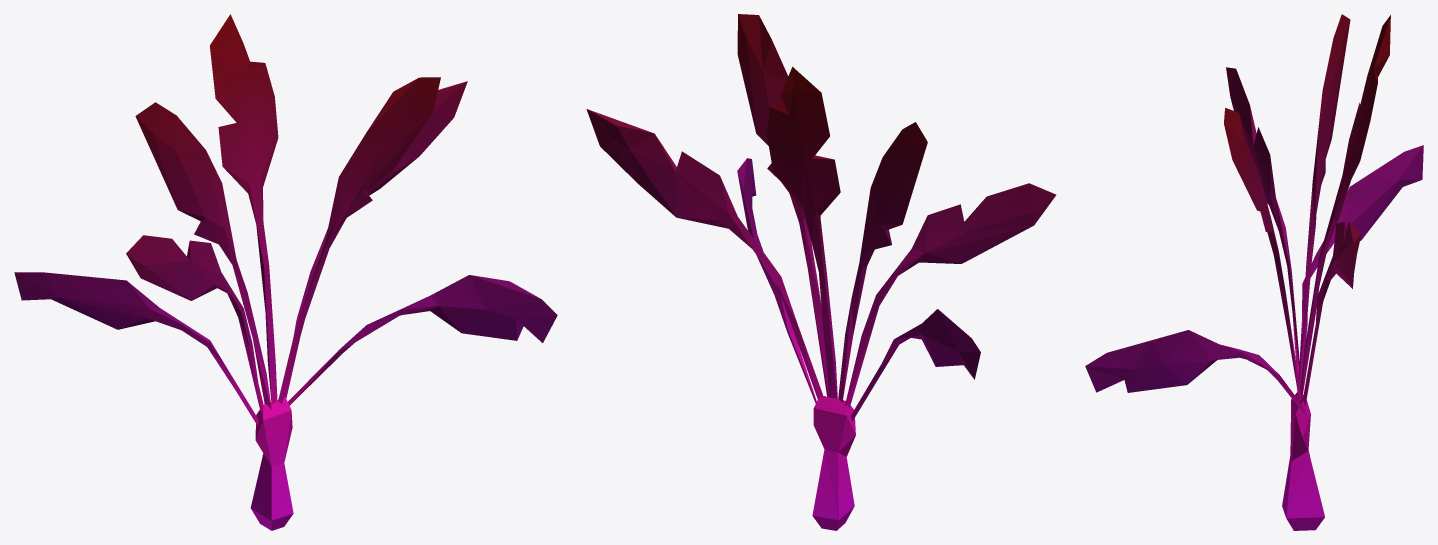
The model's file is synty-plant-palmbush-01.gltf.
3 renders of one model, left to right at view 1: azimuth 30°, elevation 25°; view 2: azimuth 150°, elevation 25°; view 3: azimuth 270°, elevation 25°, orthographic. The views are drawn at different scales.
Parts seen in each view (by area): view 1: SM_Plant_PalmBush_01; view 2: SM_Plant_PalmBush_01; view 3: SM_Plant_PalmBush_01.
Boxes of the visible parts, <box> form: SM_Plant_PalmBush_01: <box>14,14,557,530</box>; SM_Plant_PalmBush_01: <box>586,14,1056,530</box>; SM_Plant_PalmBush_01: <box>1085,14,1423,530</box>.
Bounding box in the file's own units: 3.48 × 3.81 × 2.28.
